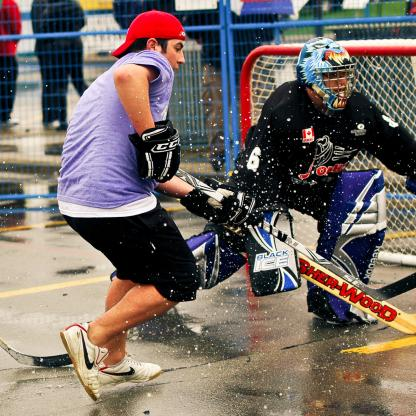Helmet: (303, 39, 358, 102)
